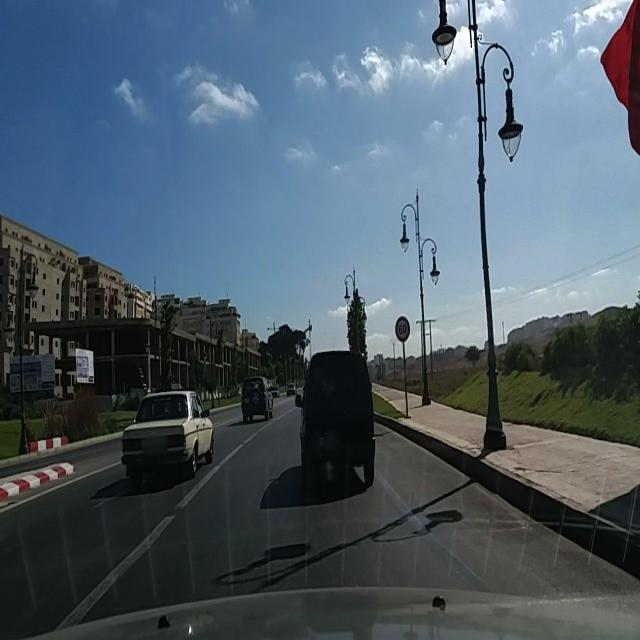car: (300, 347, 376, 496), (120, 389, 214, 486), (241, 375, 273, 423), (295, 382, 305, 406), (286, 382, 296, 398)
